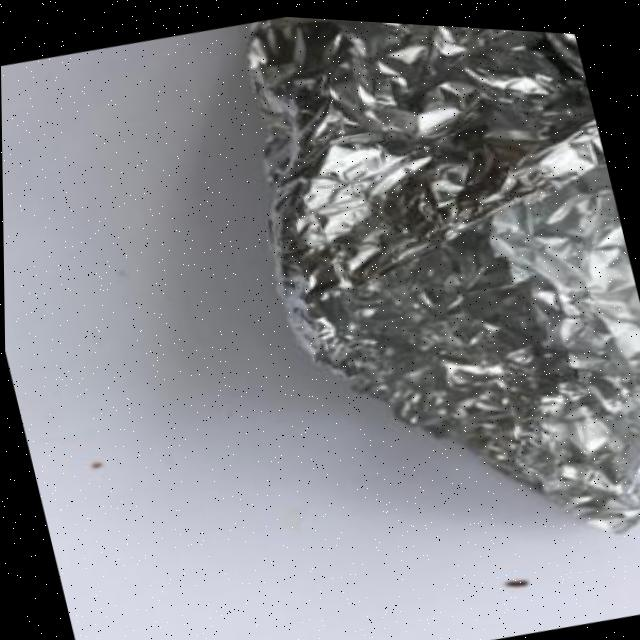metal: (210, 10, 640, 601)
